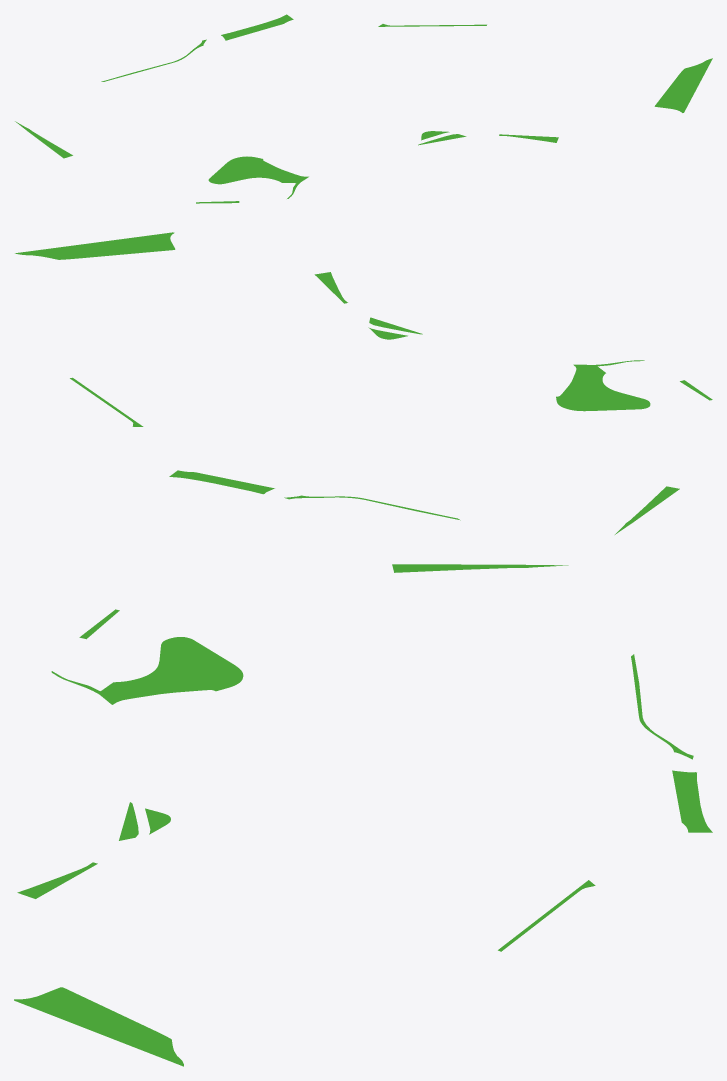
Rendered from grass.FBX.
The picture shows the model from 3 angles, top to bottom: view 1: azimuth 30°, elevation 25°; view 2: azimuth 150°, elevation 25°; view 3: azimuth 270°, elevation 25°; orthographic projection. The views are drawn at different scales.
Parts seen in each view (by area): view 1: grass_out; view 2: grass_out; view 3: grass_out.
Boxes of the visible parts, left/top/right/bottom form: grass_out: left=15, top=14, right=712, bottom=203; grass_out: left=15, top=232, right=712, bottom=534; grass_out: left=14, top=564, right=712, bottom=1066.
Size of the model in its own units: 94052 by 5 by 55277.
